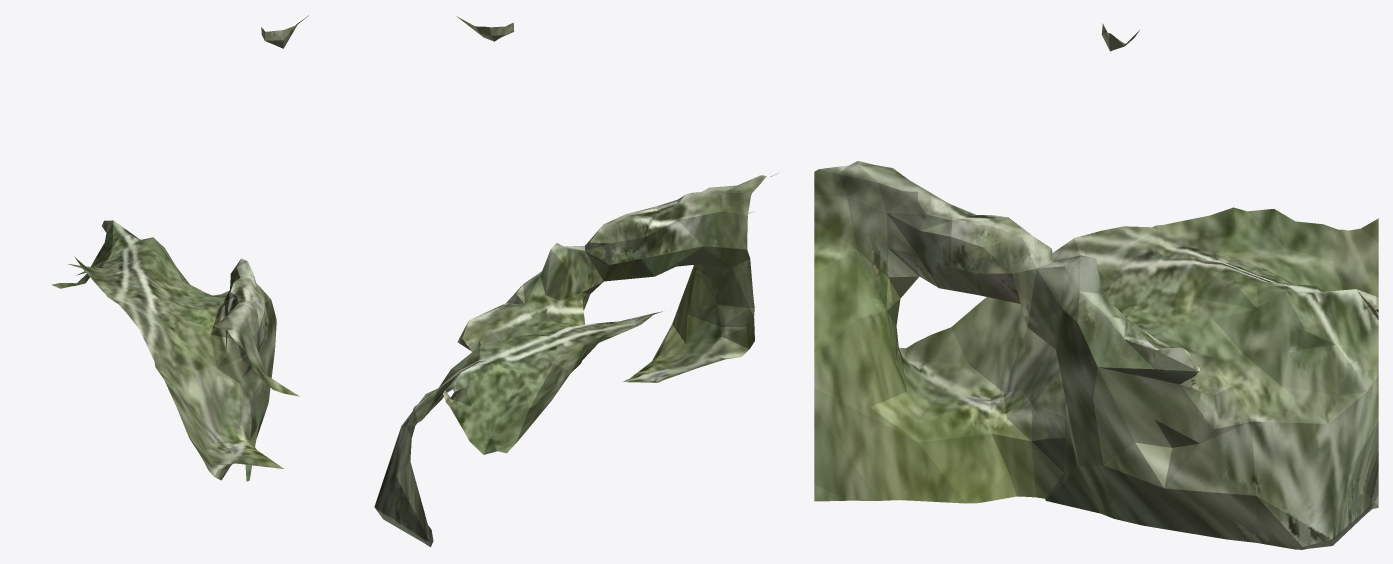
The picture shows the model from 3 angles, left to right: view 1: azimuth 30°, elevation 25°; view 2: azimuth 150°, elevation 25°; view 3: azimuth 270°, elevation 25°; orthographic projection. The views are drawn at different scales.
Size of the model in its own units: 1.4 by 2.95 by 2.95.
Materials: 2 (2 with a texture image).
